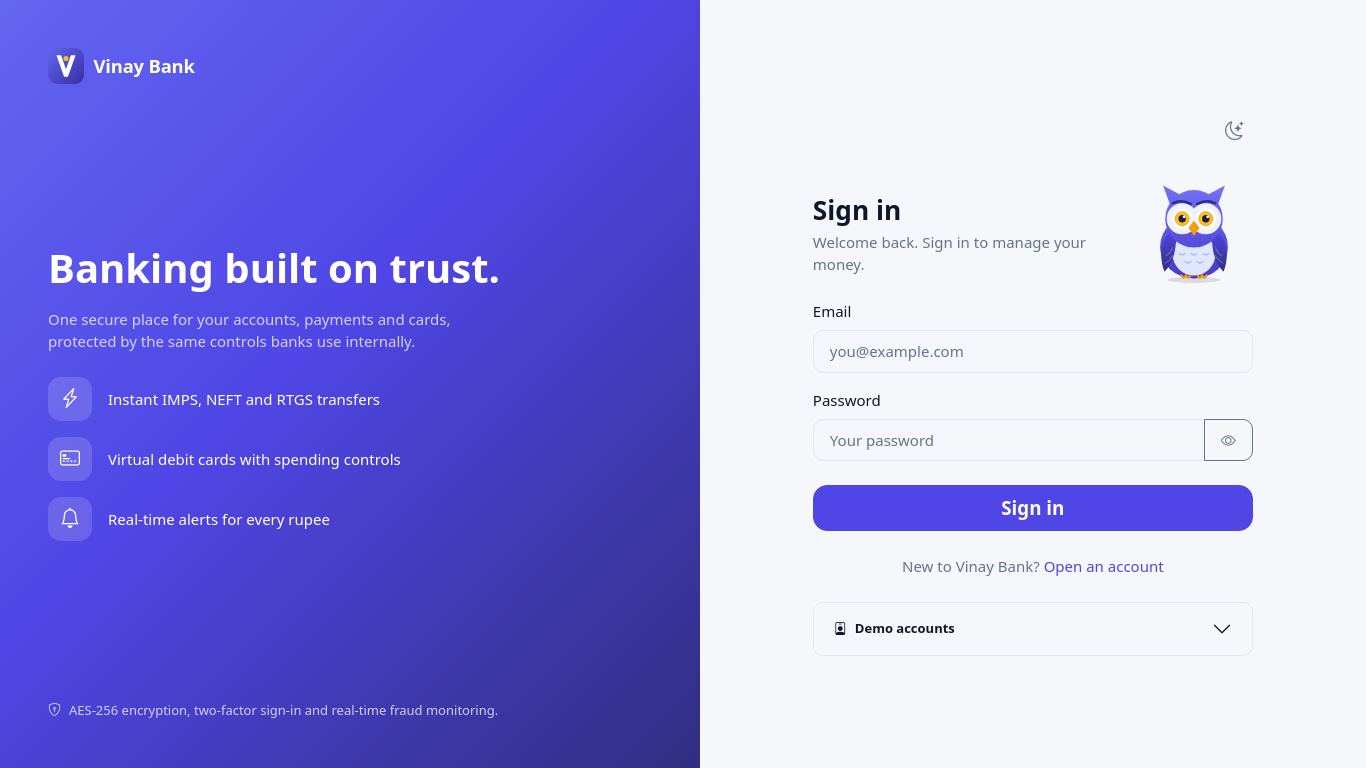
LoginPage › rejects a malformed email address
The width and height of the screenshot is (1366, 768).
Type "not-an-email" into the field labelled "Email".
click(1033, 352); type("not-an-email")  # box [813,330,1253,373]
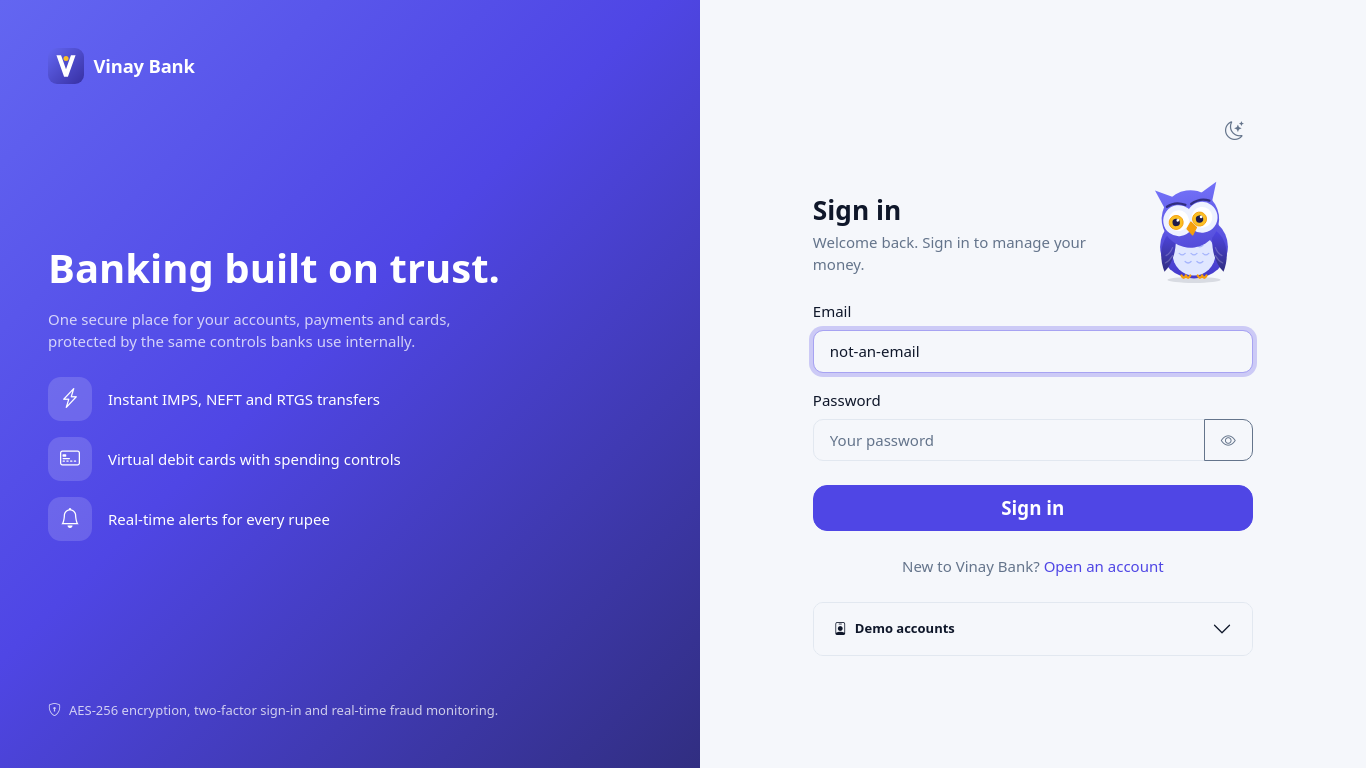
Type "anything" into the password field labelled "Password".
click(1009, 440); type("anything")  # box [813,419,1205,461]
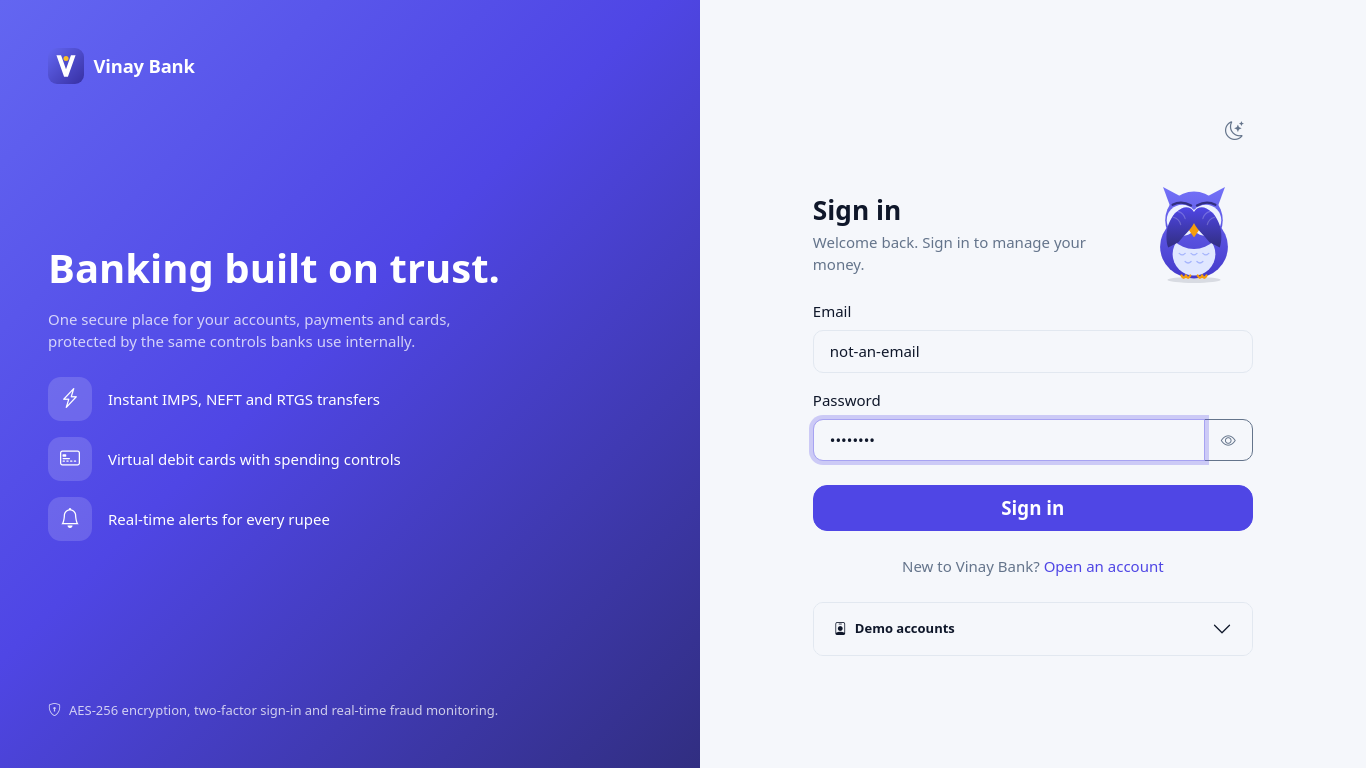
Click the button "Sign in".
click(1033, 508)  # box [813,485,1253,531]
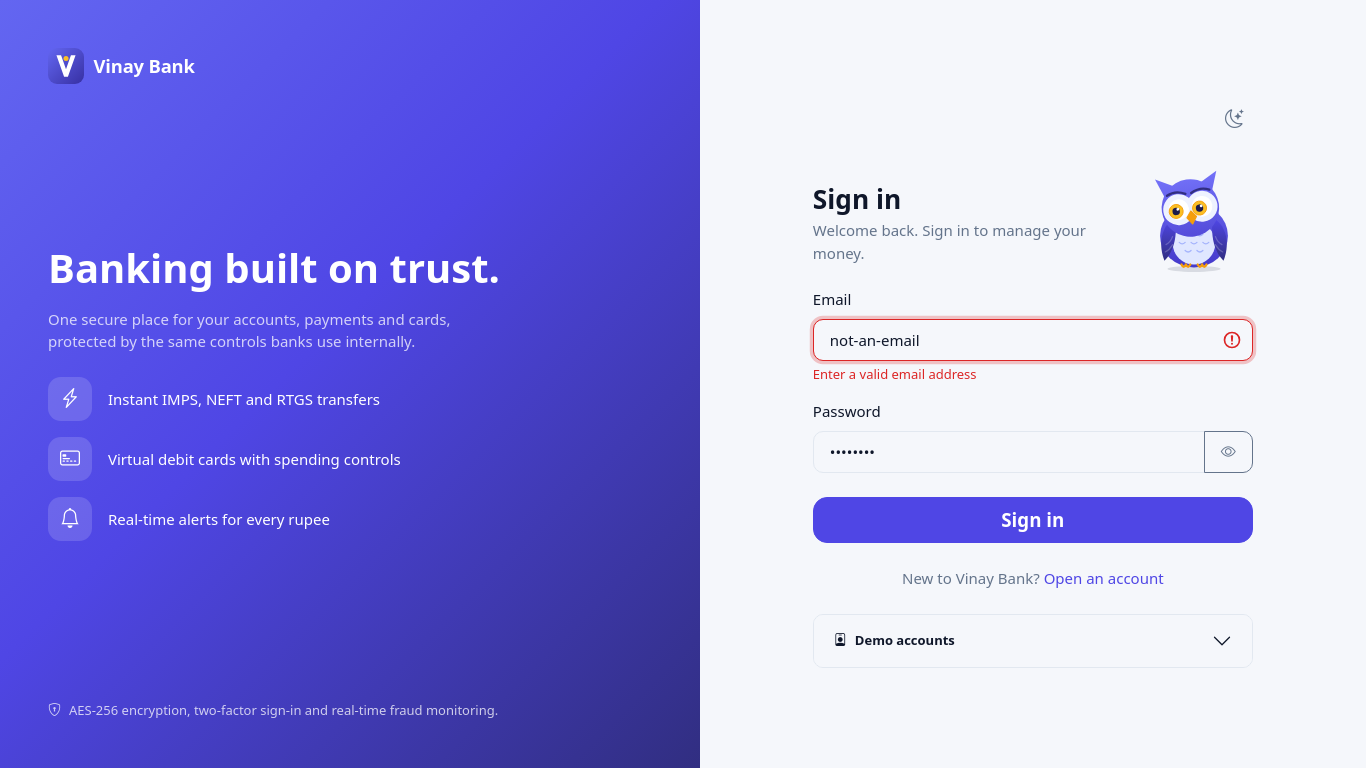
Result: the text "Enter a valid email address" is shown at [813,365,977,383]
